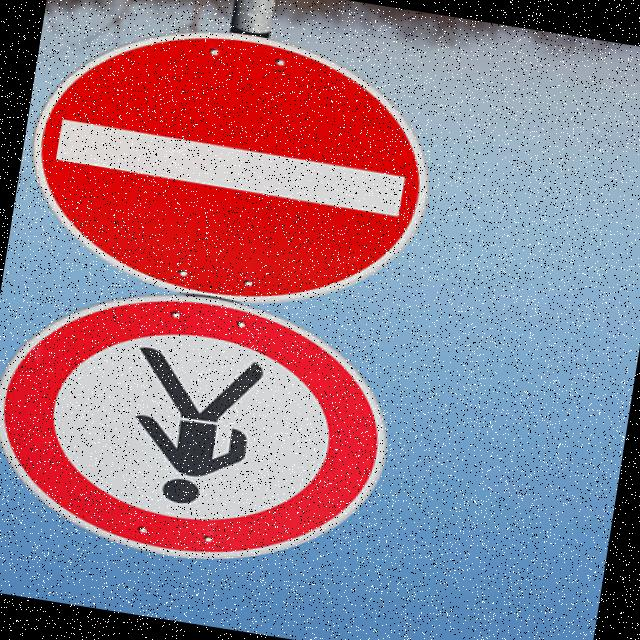do_not_enter: (5, 0, 452, 329)
